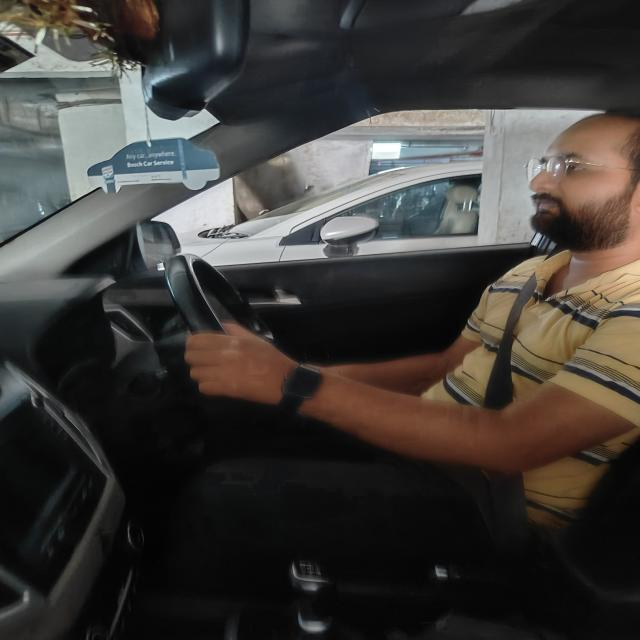seatbelt: (417, 212, 640, 624)
